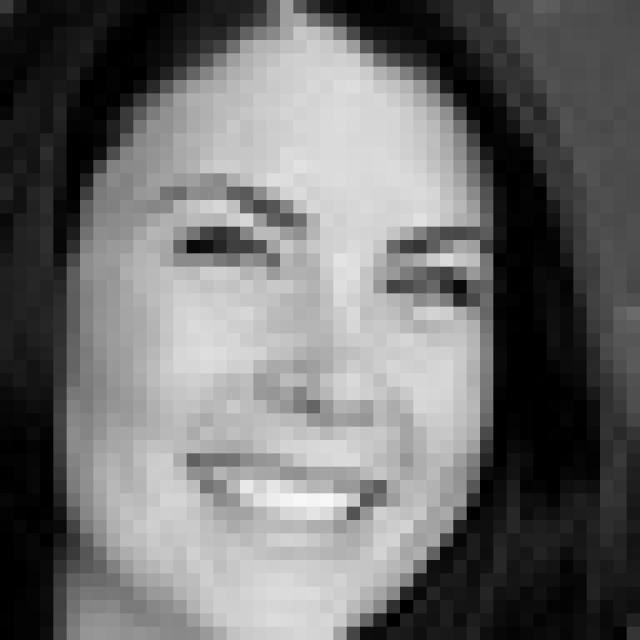happy: (125, 167, 492, 568)
